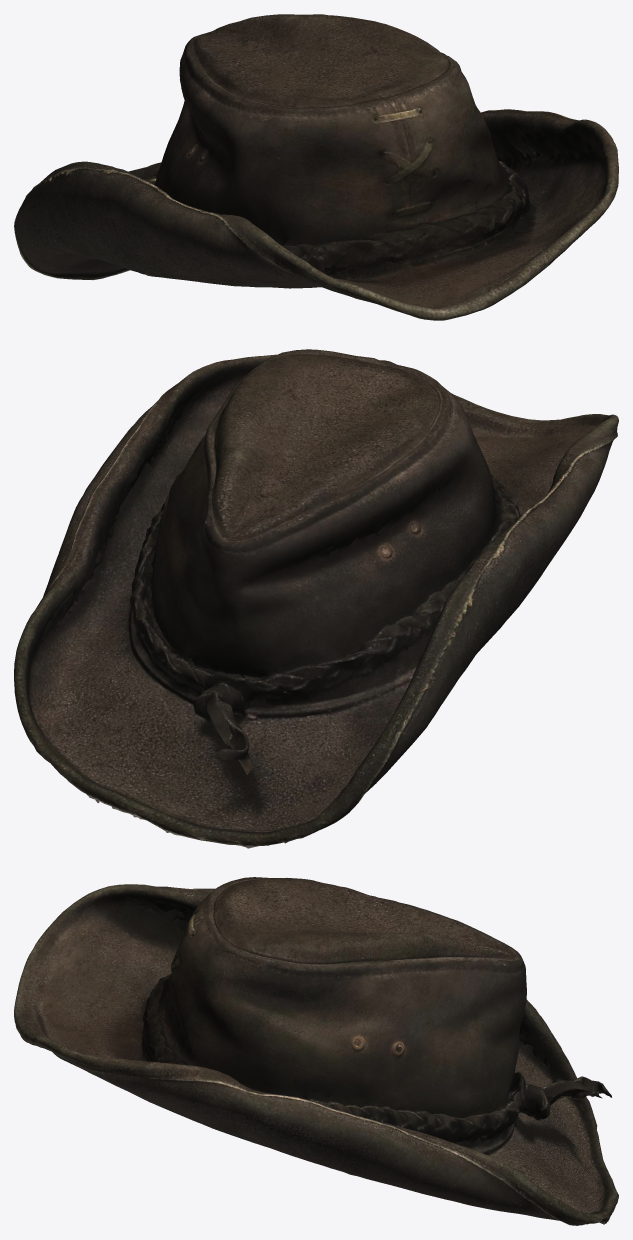
Rendered from hat-web-lossless.glb.
3 renders of one model, top to bottom at view 1: azimuth 30°, elevation 25°; view 2: azimuth 150°, elevation 25°; view 3: azimuth 270°, elevation 25°, orthographic. The views are drawn at different scales.
Parts seen in each view (by area): view 1: Cowboy_Hat; view 2: Cowboy_Hat; view 3: Cowboy_Hat.
Boxes of the visible parts, x1,y1,x2,y2 form: Cowboy_Hat: [14, 14, 618, 320]; Cowboy_Hat: [14, 349, 618, 848]; Cowboy_Hat: [14, 877, 618, 1225].
Size of the model in its own units: 2.44 by 1.7 by 3.16.
1 material, 1 textured.
